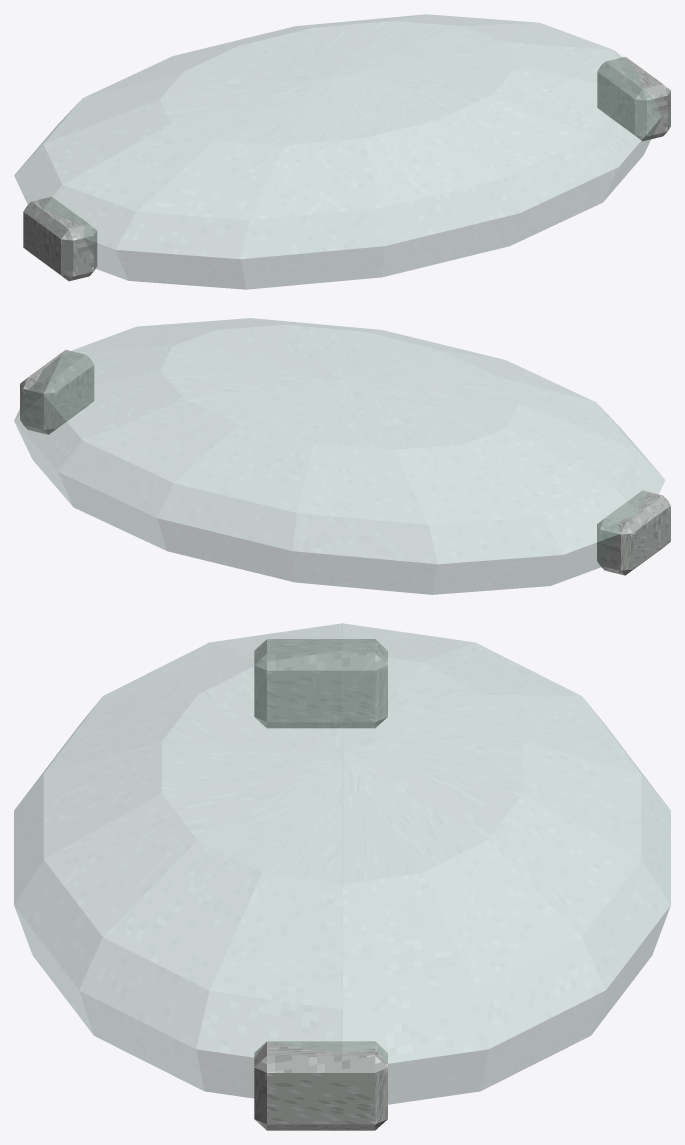
The model's file is outsert_clear.glb.
The picture shows the model from 3 angles, top to bottom: view 1: azimuth 30°, elevation 25°; view 2: azimuth 150°, elevation 25°; view 3: azimuth 270°, elevation 25°; orthographic projection. The views are drawn at different scales.
Parts seen in each view (by area): view 1: block_panoramic polycarbonate lens, block_mask lens retaining clip (×2); view 2: block_panoramic polycarbonate lens, block_mask lens retaining clip (×2); view 3: block_panoramic polycarbonate lens, block_mask lens retaining clip (×2).
Part boxes in pixels (x1=…): block_panoramic polycarbonate lens: x1=14, y1=14, x2=661, y2=289; block_mask lens retaining clip (×2): x1=23, y1=56, x2=670, y2=281; block_panoramic polycarbonate lens: x1=14, y1=318, x2=665, y2=594; block_mask lens retaining clip (×2): x1=20, y1=350, x2=670, y2=575; block_panoramic polycarbonate lens: x1=14, y1=623, x2=670, y2=1104; block_mask lens retaining clip (×2): x1=254, y1=639, x2=387, y2=1130.
Bounding box in the file's own units: 0.17 × 0.0345 × 0.1104.
Materials: 2 (2 with a texture image).
